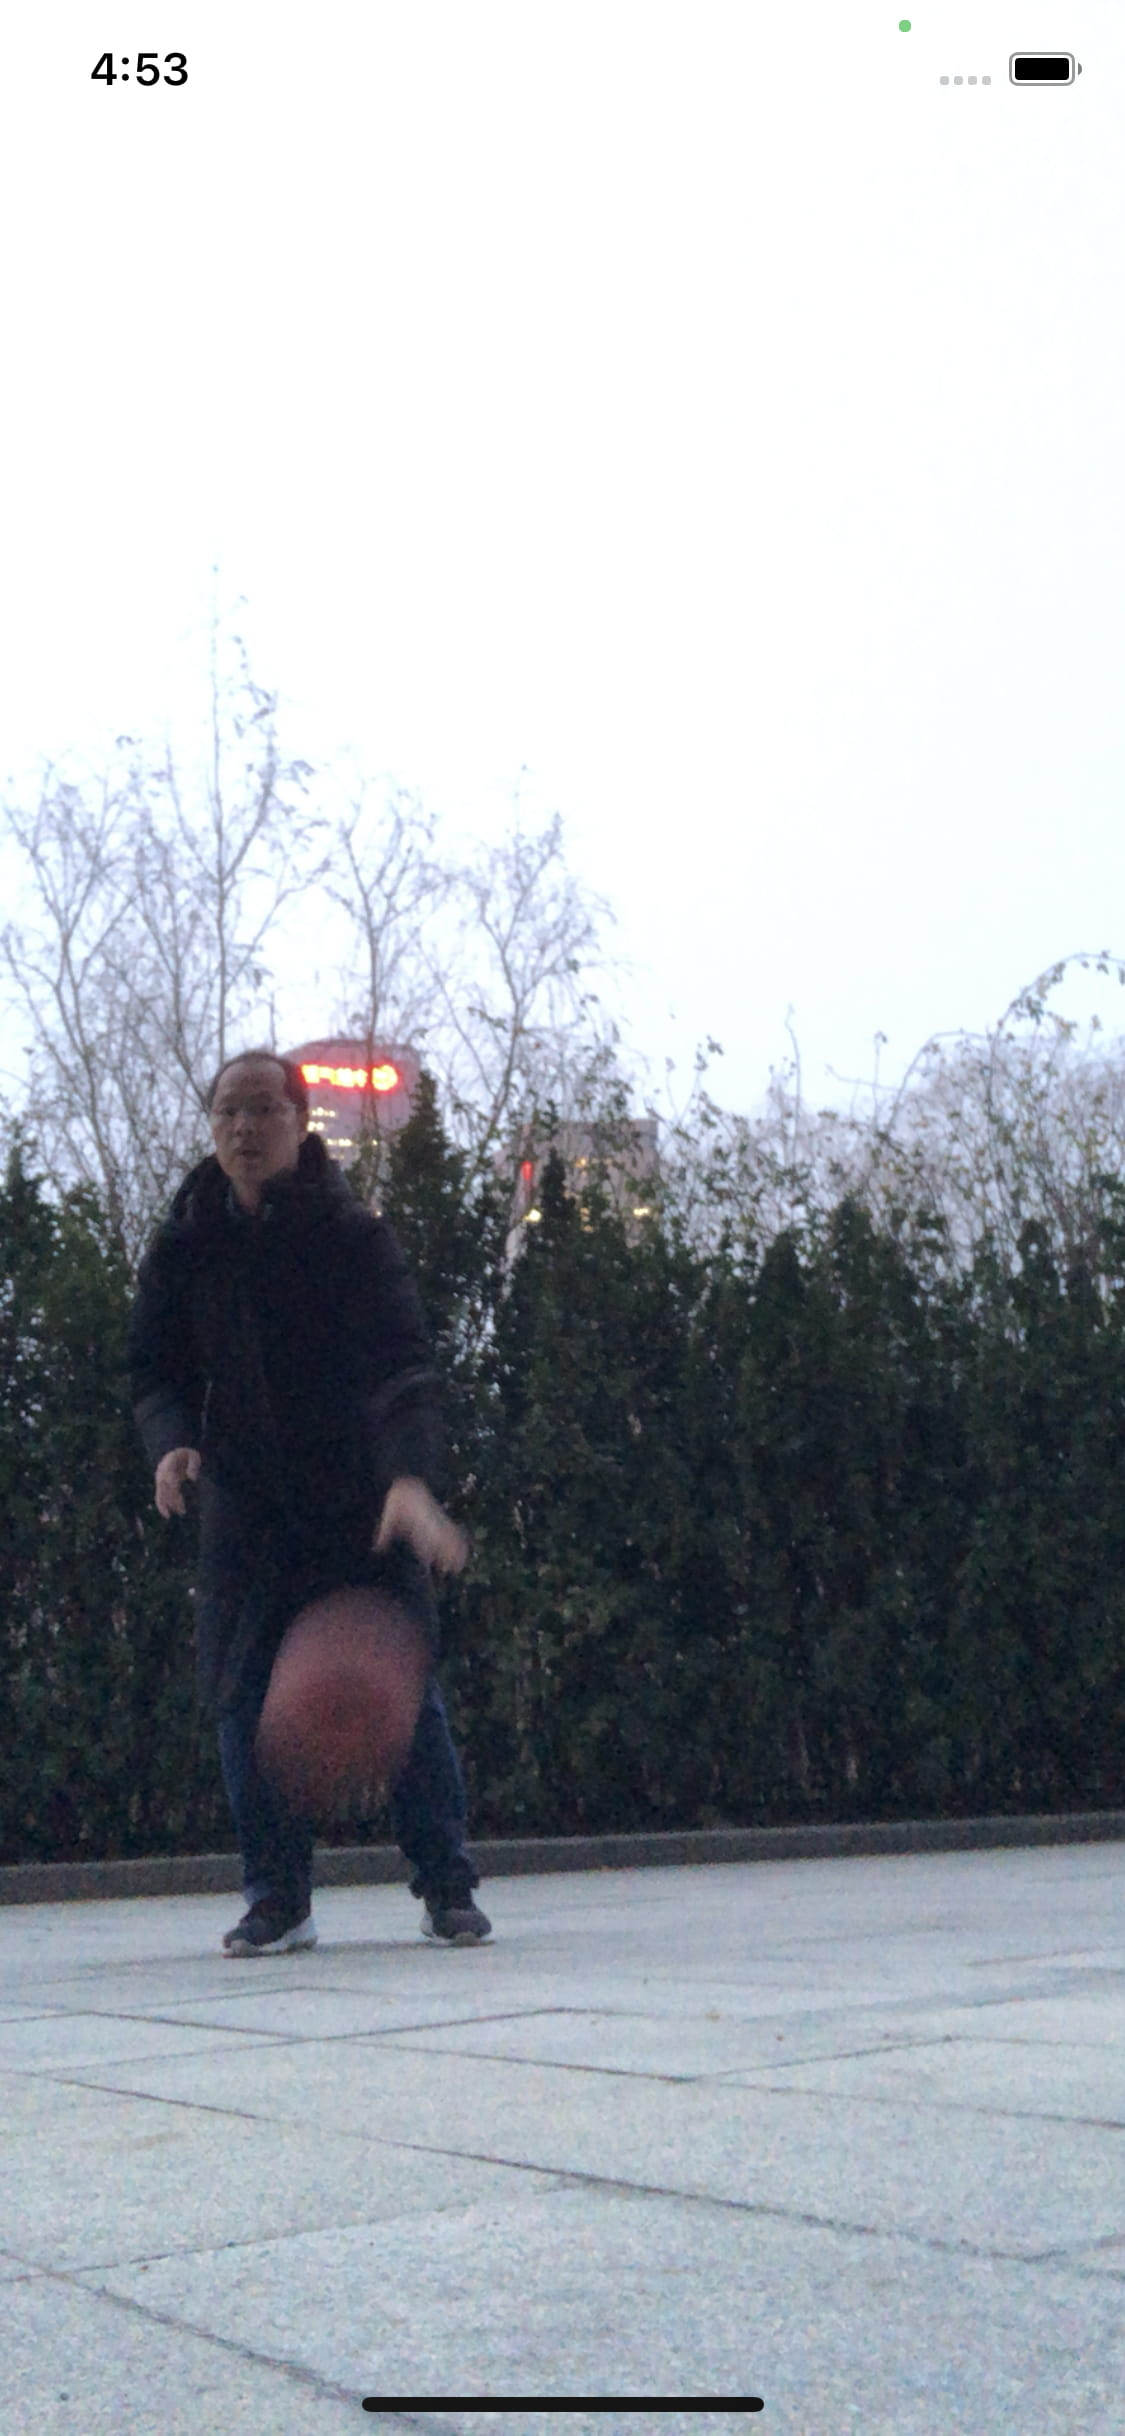ball: (264, 1603, 423, 1799)
